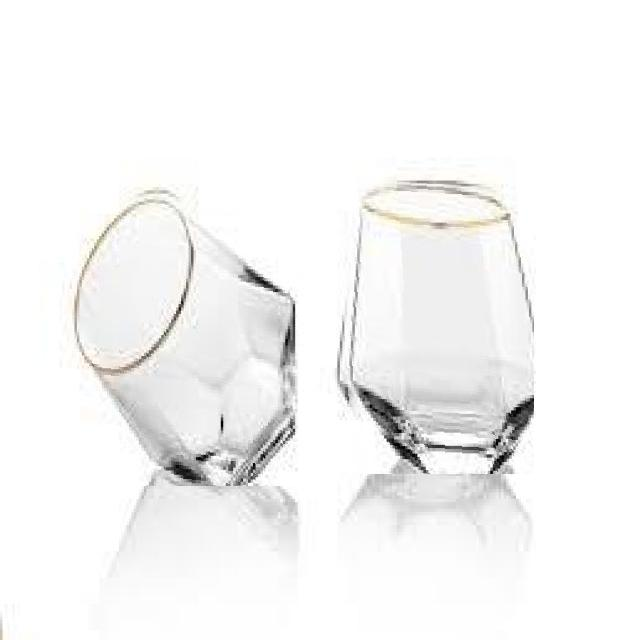Glass: (70, 186, 298, 486), (334, 178, 534, 474)
